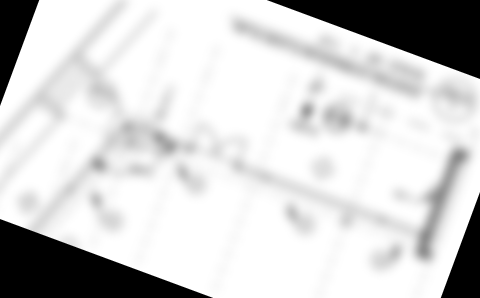double door: (188, 121, 249, 167)
